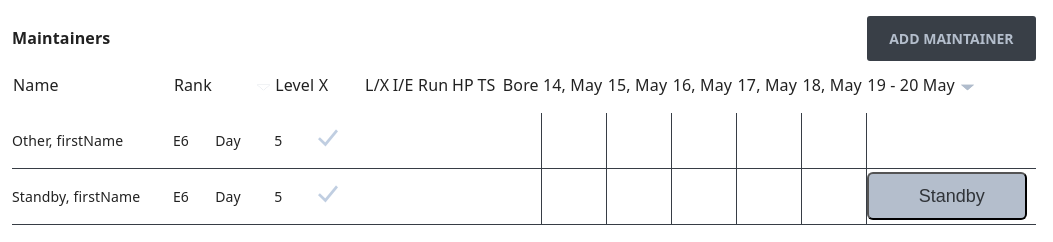
maintainerList › Sorts maintainers by weekend standby
Click the column heading "19 - 20 May".
click(951, 92)  # box [866,72,1036,112]
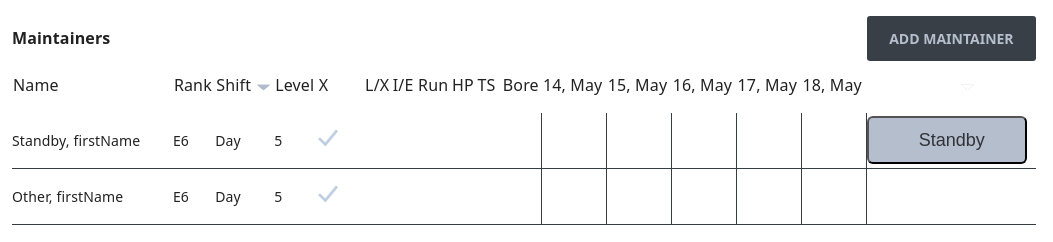
Expected: the cell "Standby, firstName" is shown, [12,112,173,168]
Expected: the cell "Other, firstName" is shown, [12,168,173,224]
